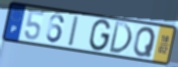5: (23, 9, 45, 41)
6: (46, 14, 65, 44)
D: (108, 20, 133, 55)
G: (87, 18, 112, 53)
I: (67, 15, 80, 48)
Q: (132, 26, 157, 58)
